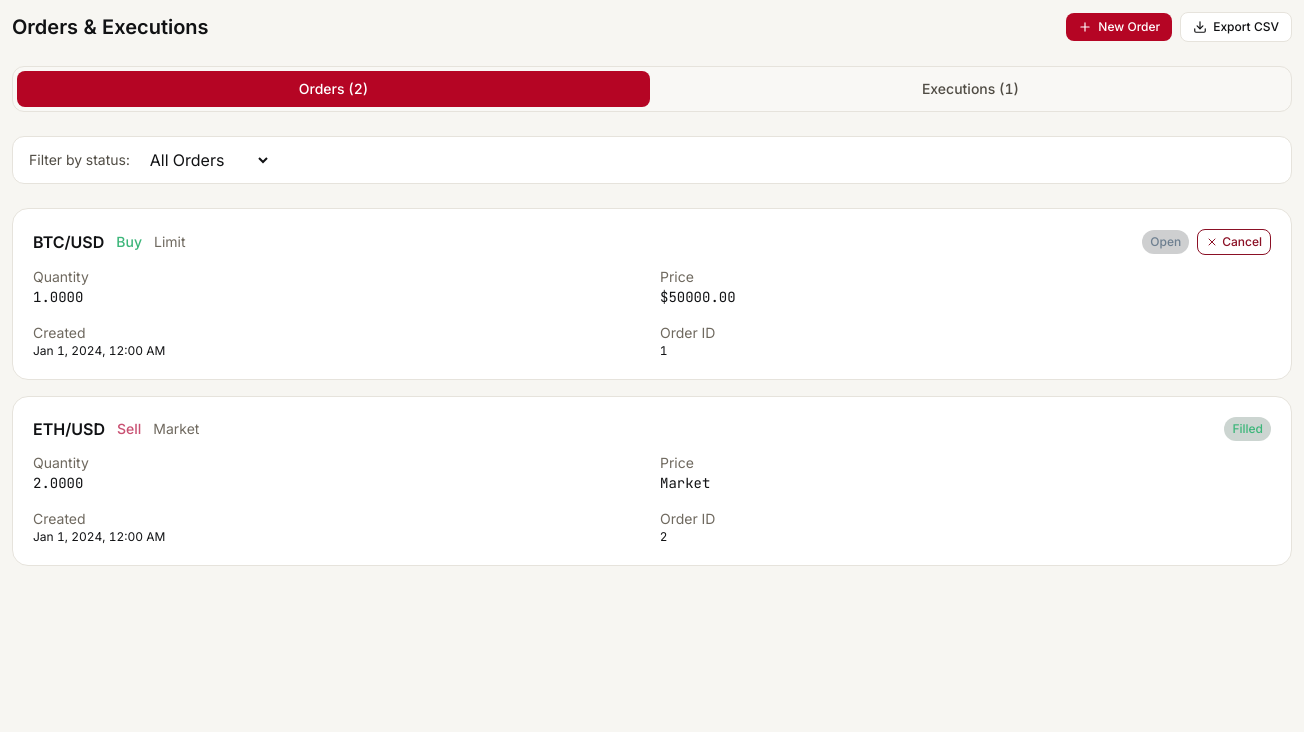
Orders › filters orders by status
Expected: the text "BTC/USD" is shown, [33,230,104,254]
Expected: the text "ETH/USD" is shown, [33,417,105,441]
Select "Filled" in the dropdown at (208, 160), box [146,149,271,171]
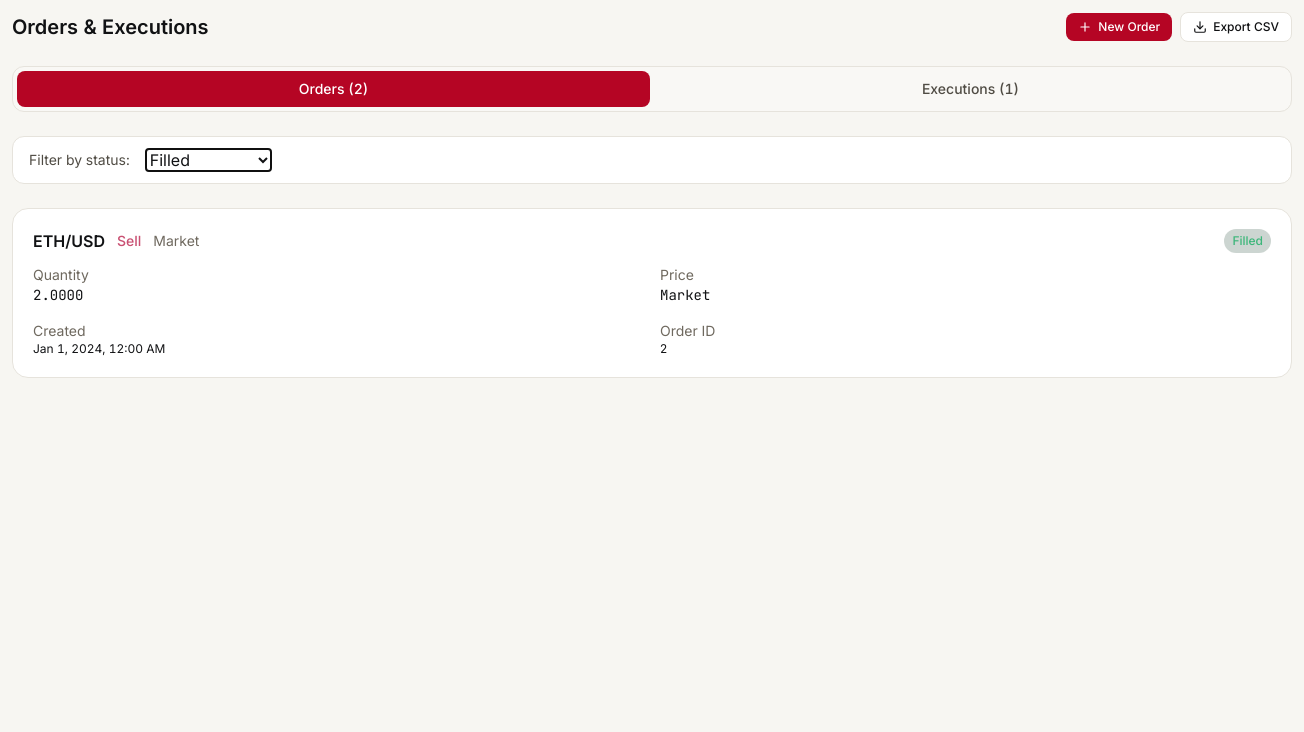
Expected: the text "ETH/USD" is shown, [33,229,105,253]
Expected: the text "BTC/USD" is gone
